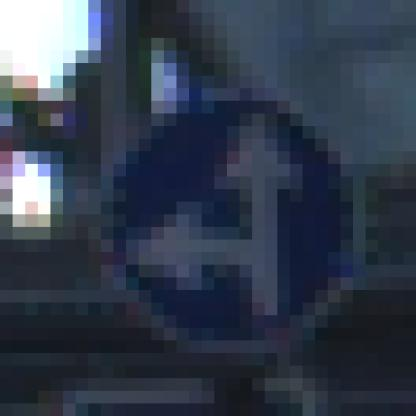Straight or Left: (77, 77, 354, 354)
